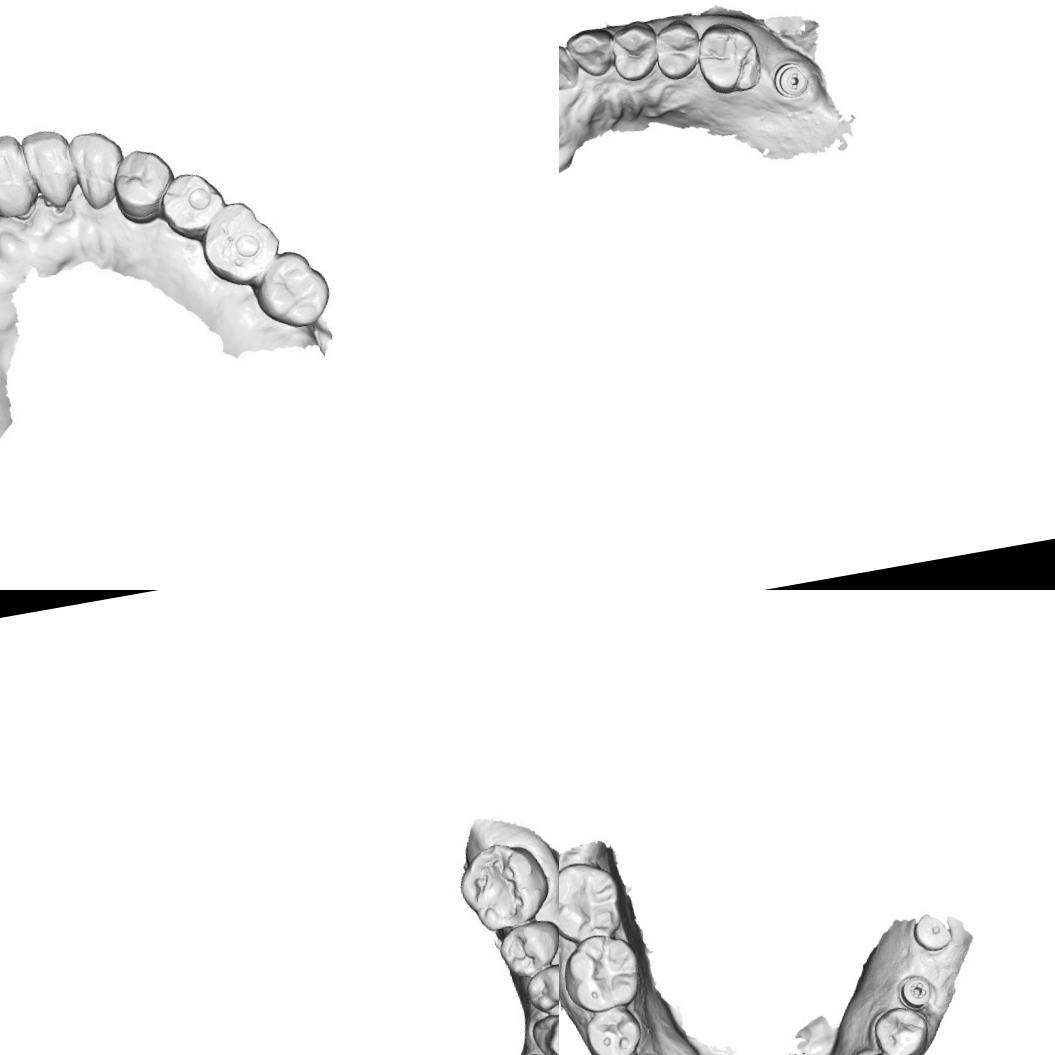canine: (69, 122, 128, 212), (562, 24, 618, 81), (531, 1012, 559, 1055)
implant: (907, 910, 954, 960)
implant_minus: (769, 58, 812, 102)
implant_plus: (891, 966, 939, 1014)
incisor: (17, 124, 84, 222), (0, 130, 42, 226), (559, 40, 582, 96)
molar: (452, 836, 552, 939), (196, 195, 286, 290), (248, 240, 336, 336), (559, 925, 649, 1017), (559, 852, 631, 949), (691, 15, 765, 98)
premolar: (151, 166, 232, 244), (105, 148, 176, 224), (494, 916, 559, 981), (866, 998, 935, 1055), (578, 1001, 648, 1055), (649, 16, 705, 82), (608, 17, 662, 84), (519, 957, 559, 1022)
